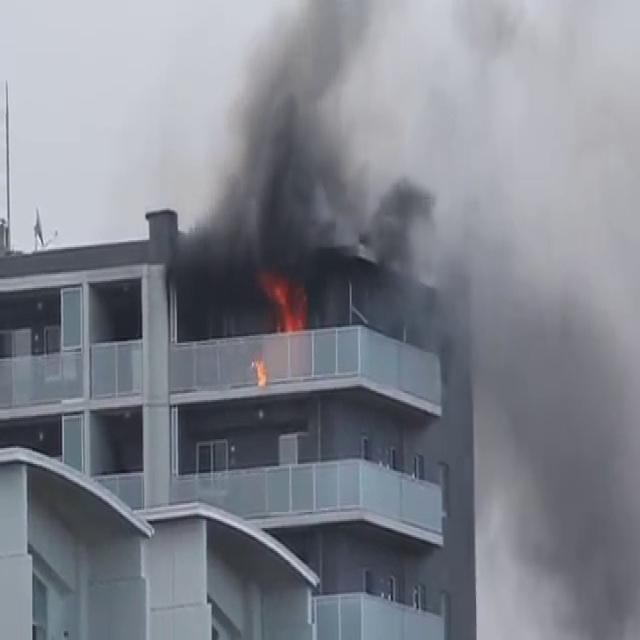Fire: (254, 265, 310, 338)
Smoke: (170, 0, 638, 345)
